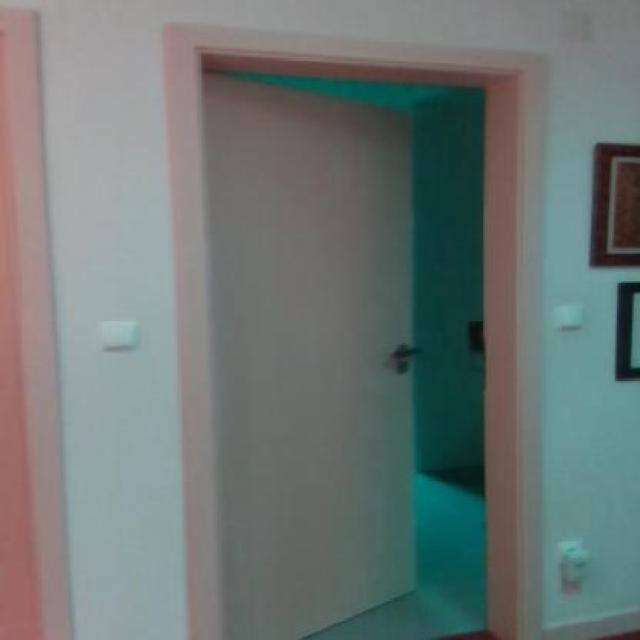door_handle: (376, 339, 422, 368)
